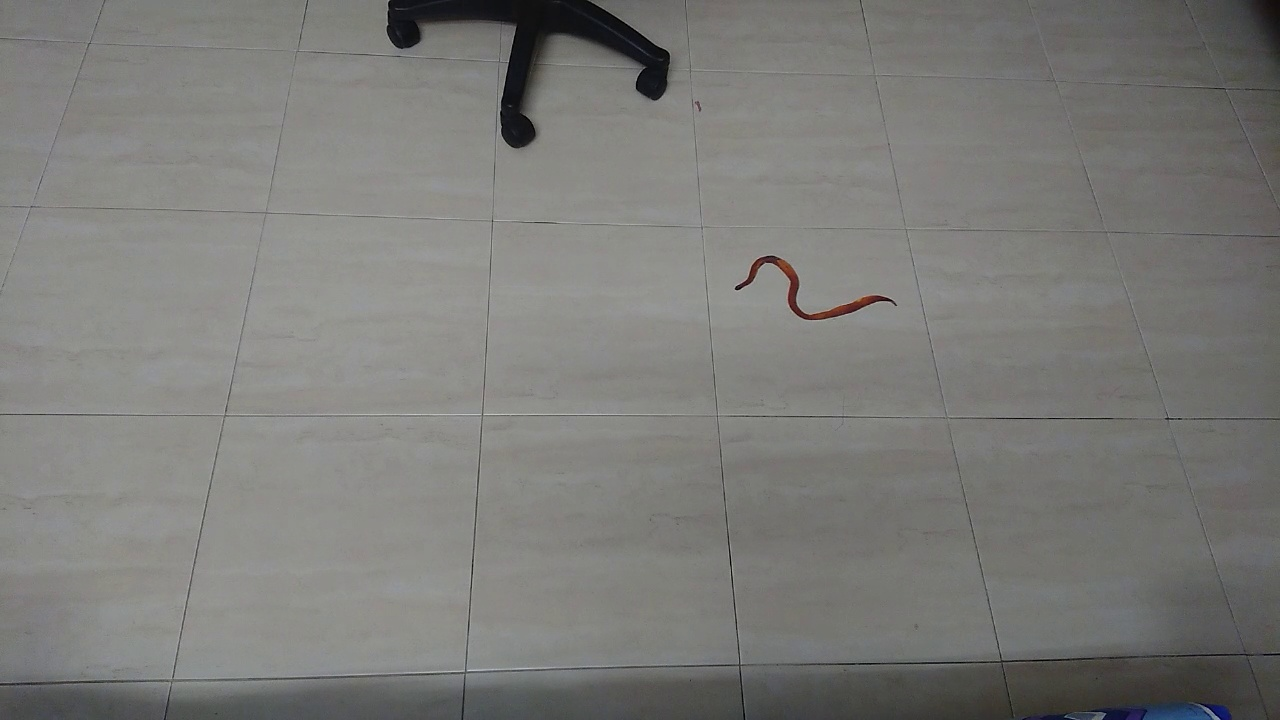snake: (711, 239, 911, 341)
